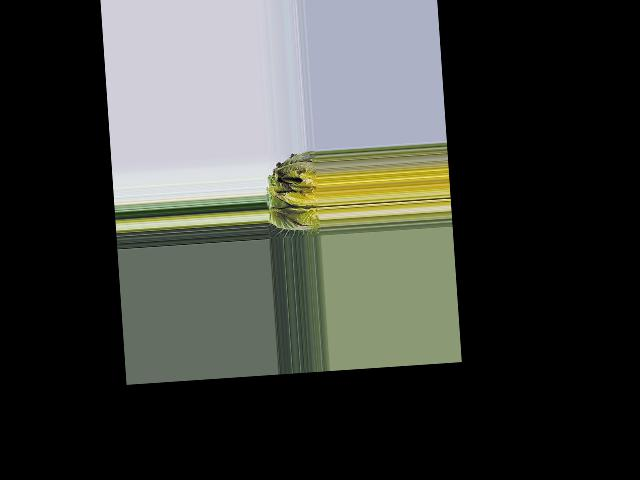lettuce: (265, 153, 321, 239)
